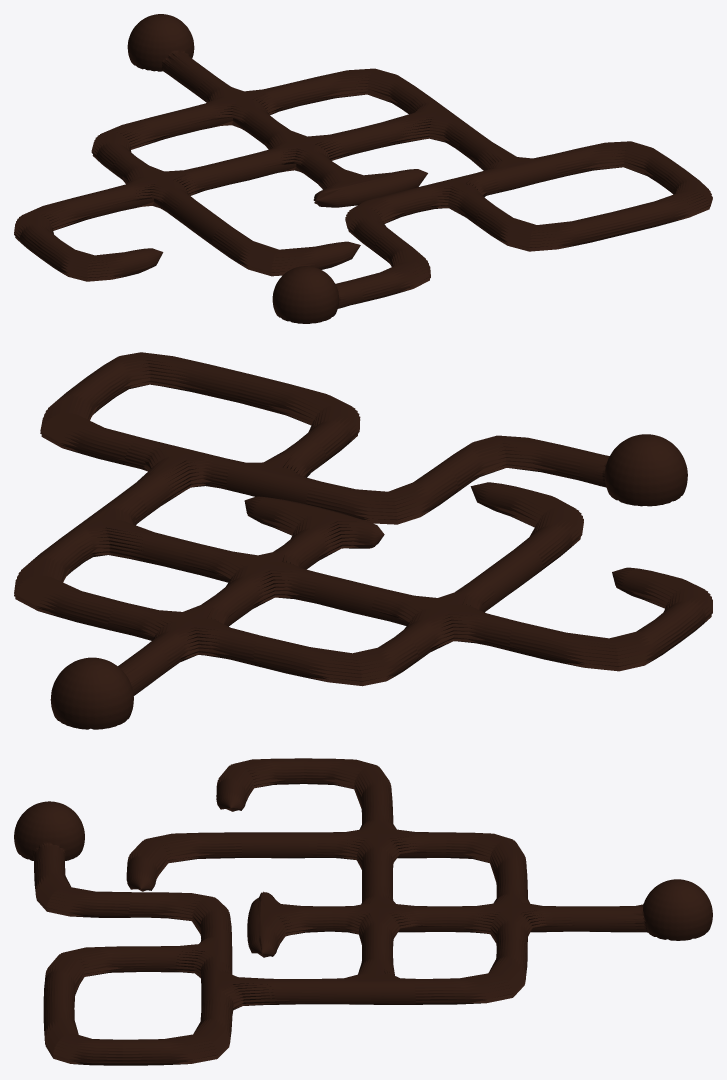
File: StageNo_04GG.obj
3 renders of one model, top to bottom at view 1: azimuth 30°, elevation 25°; view 2: azimuth 150°, elevation 25°; view 3: azimuth 270°, elevation 25°, orthographic. The views are drawn at different scales.
Parts seen in each view (by area): view 1: Stage.Cave; view 2: Stage.Cave; view 3: Stage.Cave.
Part boxes in pixels (x1=…): Stage.Cave: x1=14, y1=14, x2=712, y2=323; Stage.Cave: x1=14, y1=352, x2=712, y2=729; Stage.Cave: x1=14, y1=758, x2=712, y2=1065.
Size of the model in its own units: 44.78 by 3.17 by 44.93.
